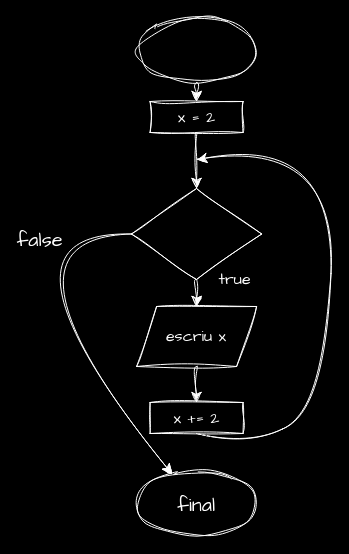
Some shapes in this 349 by 554 pixel diagram are drawn without their labels. Here are the shapes that lost their labels. From the top down, the centre of each, then its label:
At pixel 196 49: "inicio".
At pixel 196 234: "x < = 200".
